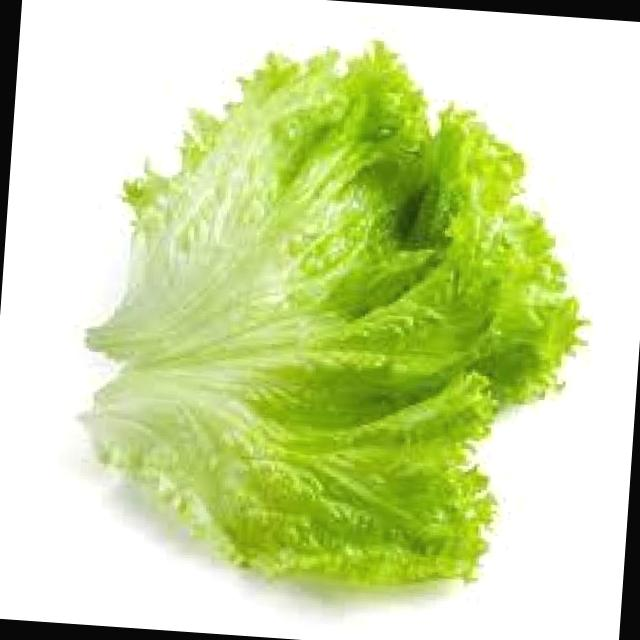Lettuce-Ready-to-Harvest: (88, 42, 577, 584)
